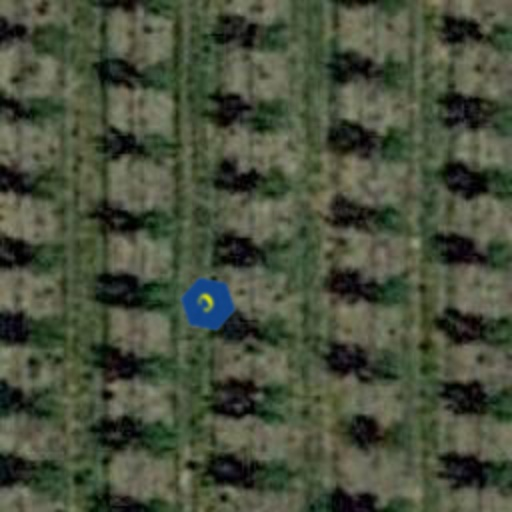hexagon: (168, 264, 248, 344)
